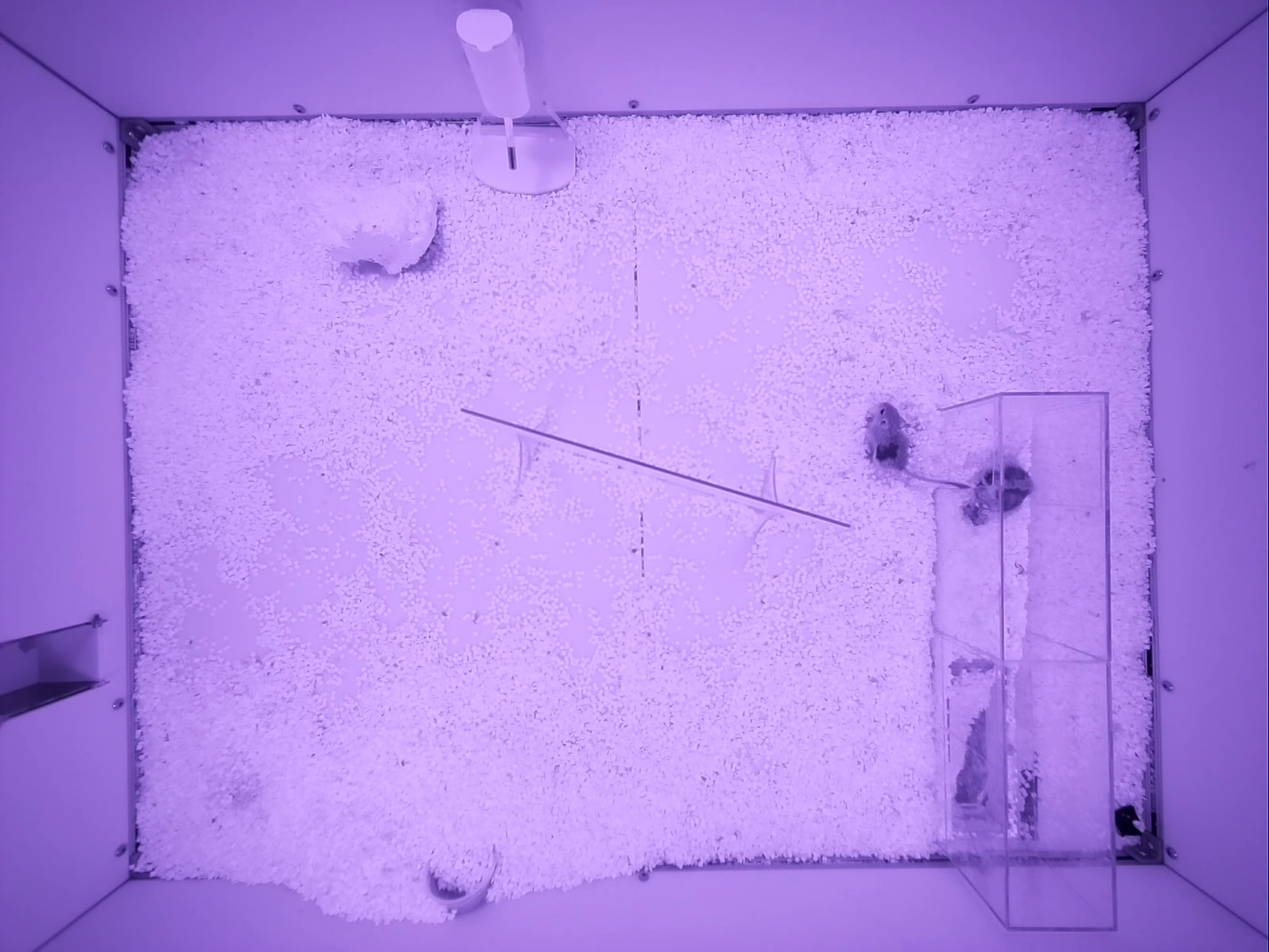adult_back: (866, 402, 968, 488), (962, 463, 1032, 525)
